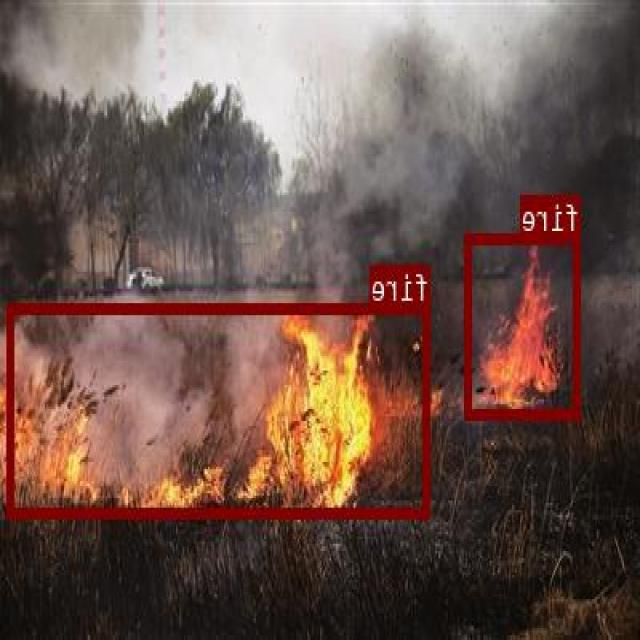fire: (8, 300, 432, 516), (466, 231, 582, 417)
